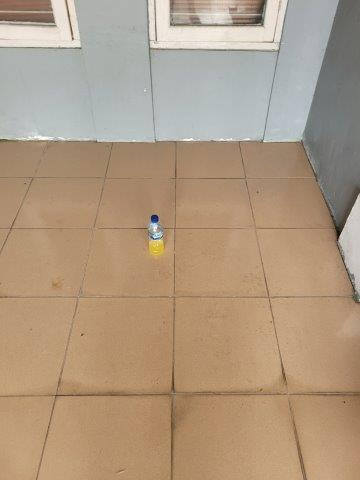botolplastik: (147, 216, 165, 256)
